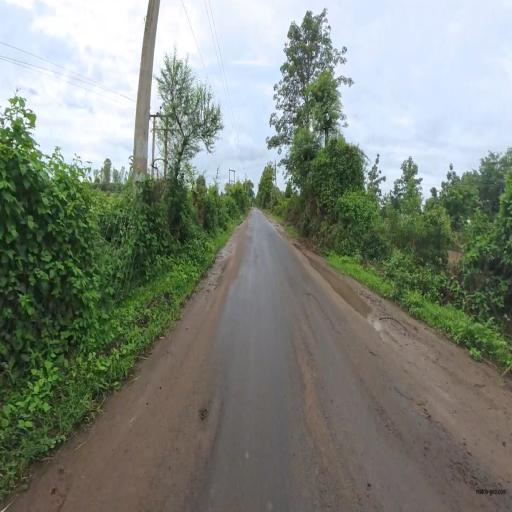ravelling: (289, 279, 354, 512)
